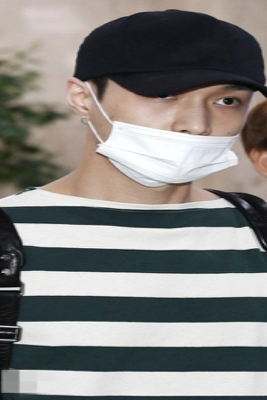mask_weared_incorrect: (89, 86, 250, 184)
